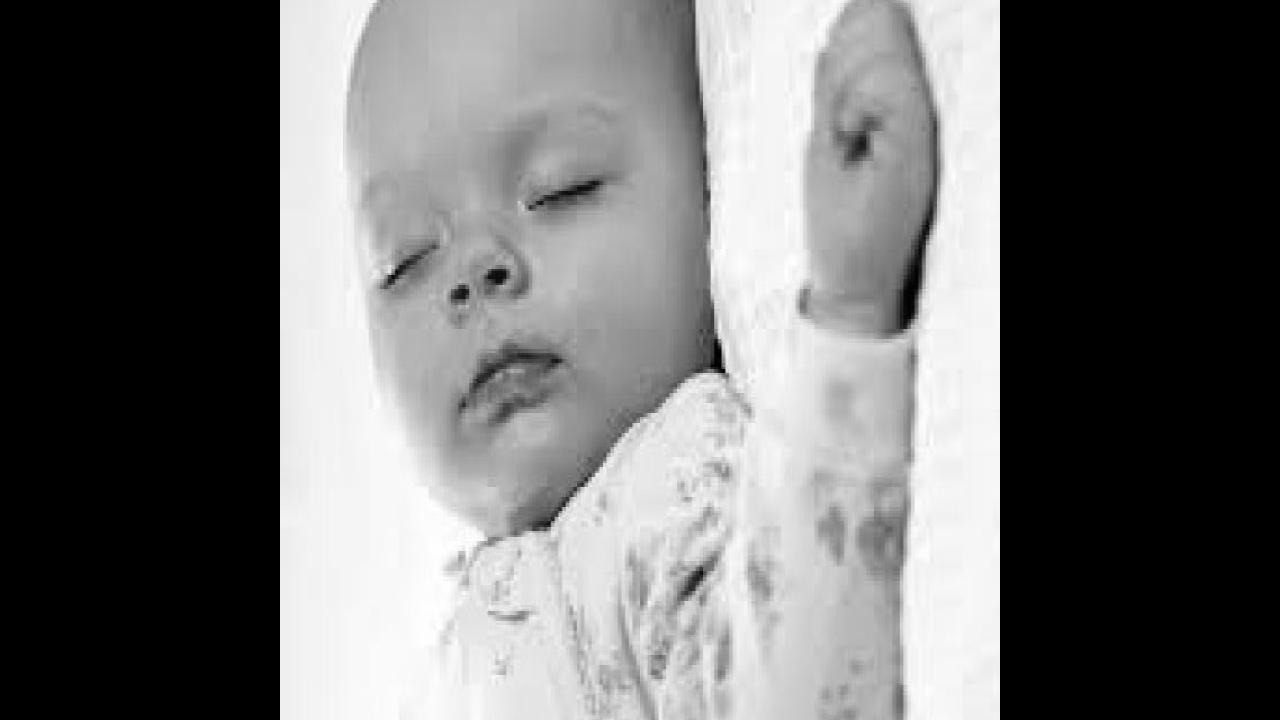hand: (800, 0, 942, 283)
